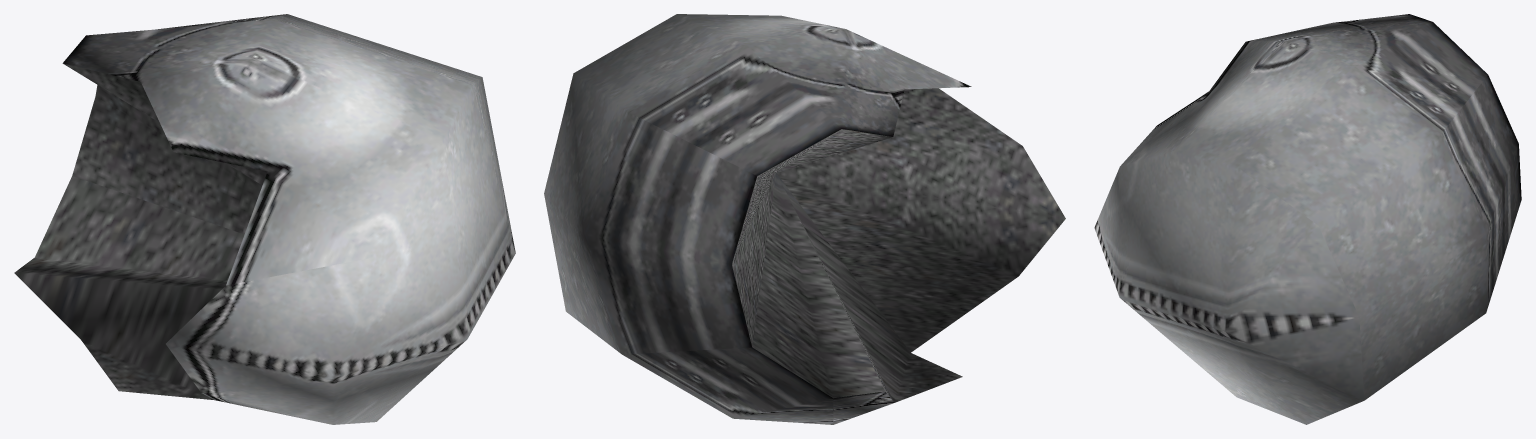
The model's file is Helmet2.glb.
3 views of the same model, side by side, from view 1: azimuth 30°, elevation 25°; view 2: azimuth 150°, elevation 25°; view 3: azimuth 270°, elevation 25° (orthographic). The views are drawn at different scales.
Parts seen in each view (by area): view 1: Helmet2; view 2: Helmet2; view 3: Helmet2.
Boxes of the visible parts, x1,y1,x2,y2 form: Helmet2: (14, 14, 515, 424); Helmet2: (544, 14, 1065, 424); Helmet2: (1094, 14, 1521, 424).
Size of the model in its own units: 13.61 by 11.61 by 14.28.
1 material, 1 textured.
